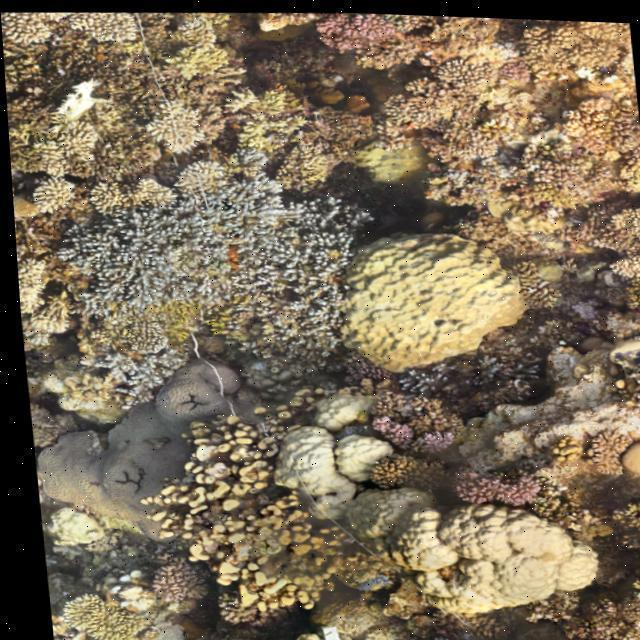Bleached Coral: (54, 161, 373, 356)
Healthy Coral: (328, 7, 640, 201), (378, 394, 475, 461), (454, 475, 592, 505), (196, 598, 290, 628), (155, 564, 213, 608)
